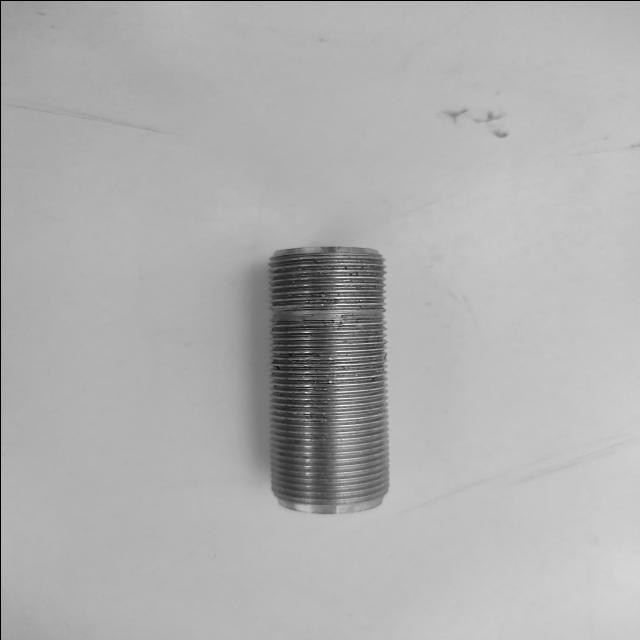Broken: (263, 239, 393, 514)
